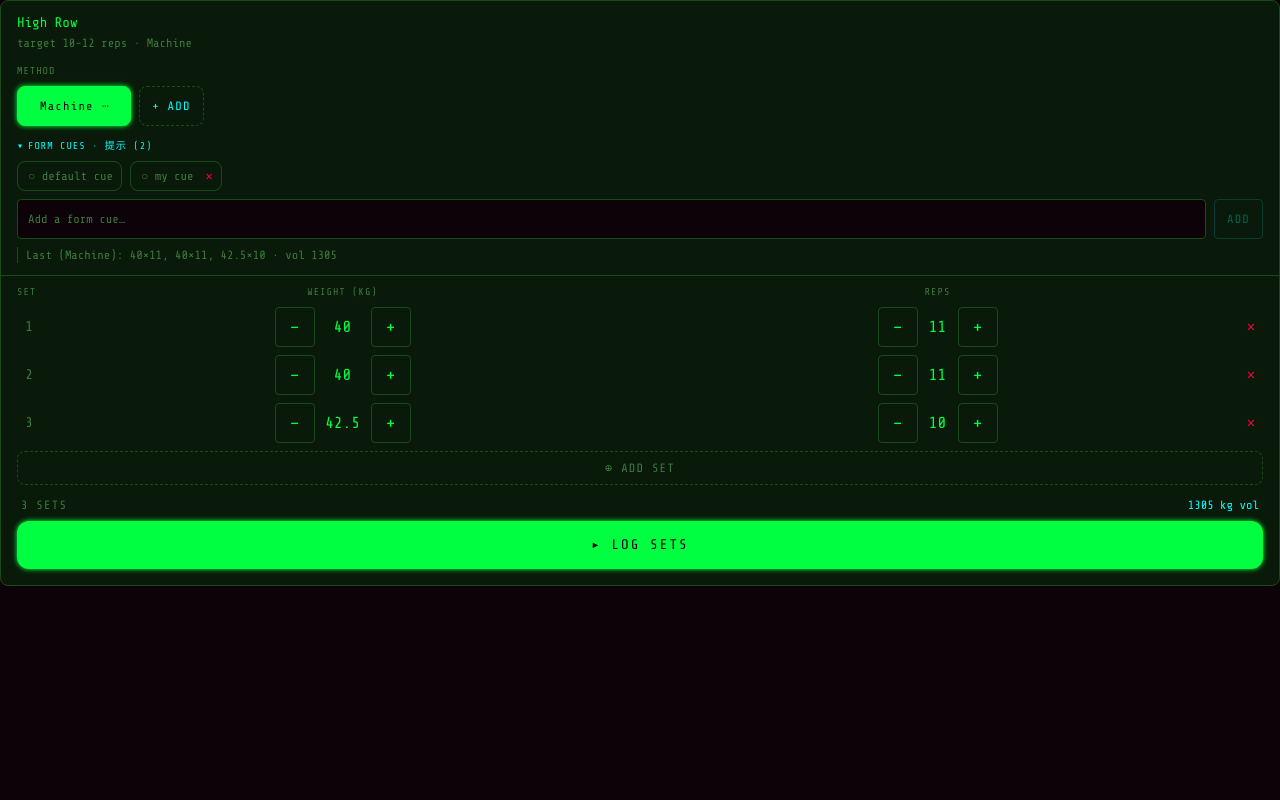
Test: SetBySetCard › allows removing only user-added (custom) cues
Click the button with test id "remove-cue-7-1" at (211, 176), box [202,168,221,184]
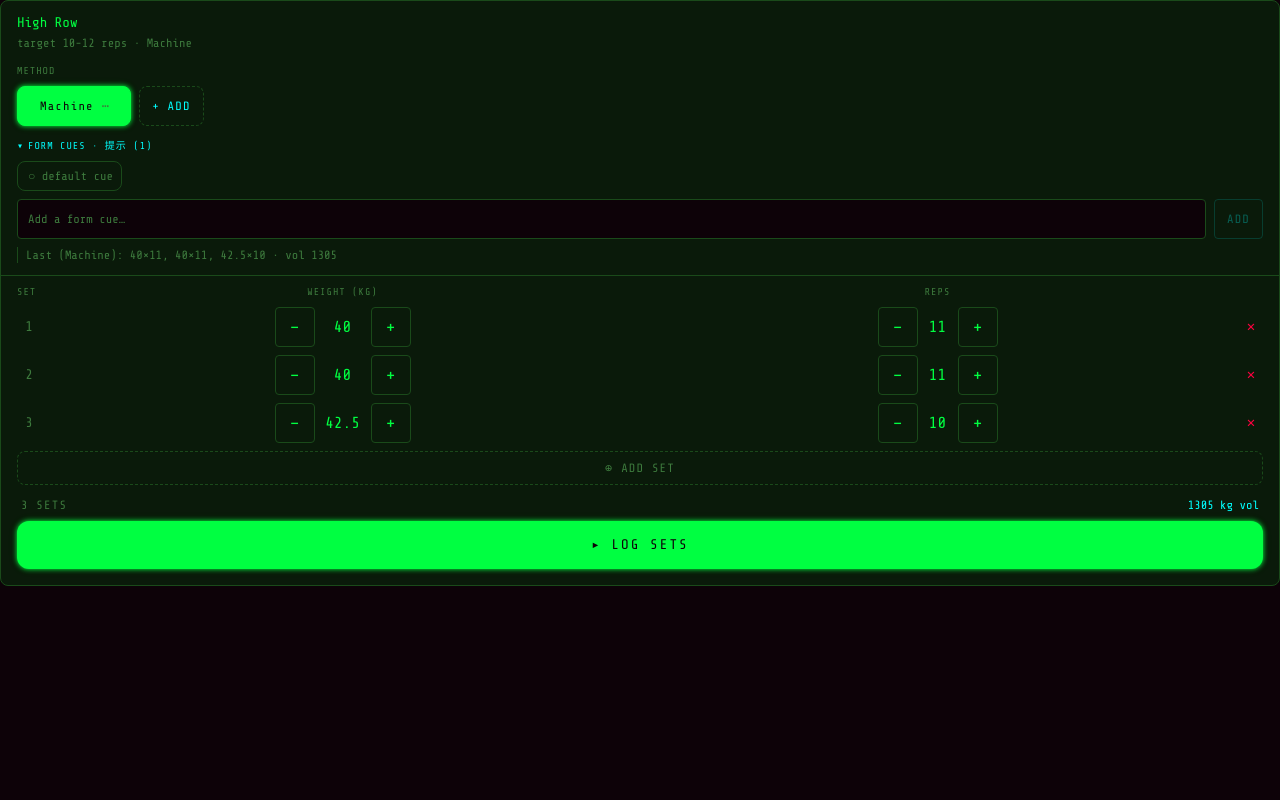
Now the button "my cue" is gone
